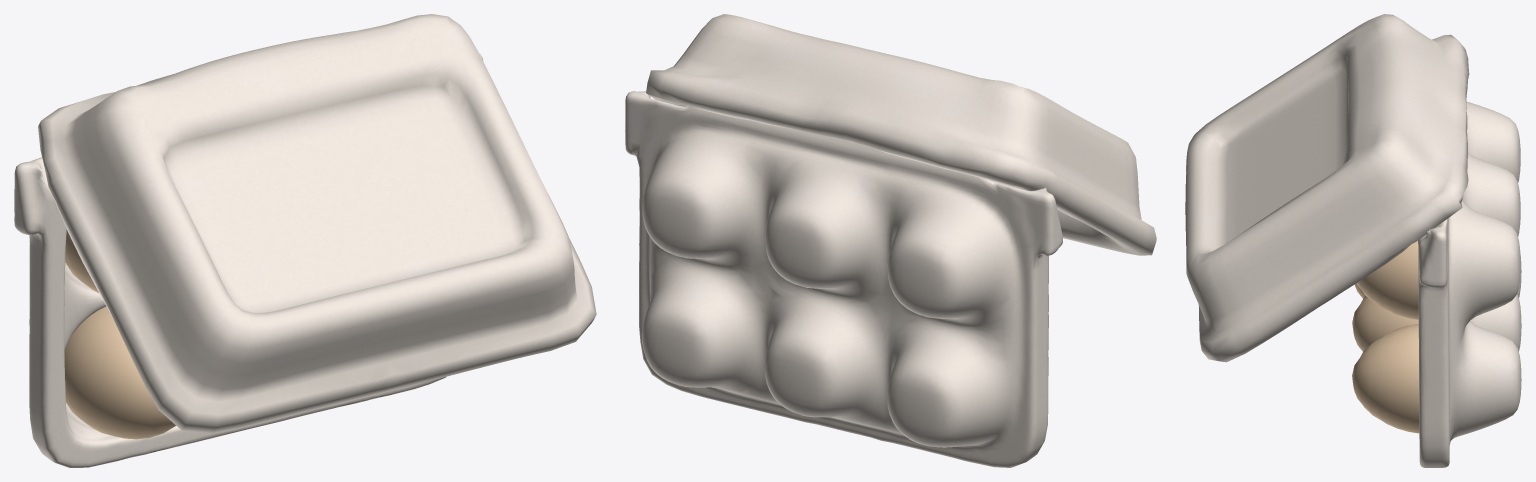
3 renders of one model, left to right at view 1: azimuth 30°, elevation 25°; view 2: azimuth 150°, elevation 25°; view 3: azimuth 270°, elevation 25°, orthographic. The views are drawn at different scales.
Parts seen in each view (by area): view 1: ZBrush_defualt_group001zz, Group007, Group005; view 2: ZBrush_defualt_group001zz; view 3: ZBrush_defualt_group001zz, Group2, Group003, Group006.
Boxes of the visible parts, x1,y1,x2,y2 form: ZBrush_defualt_group001zz: (14, 14, 596, 467); Group007: (64, 306, 175, 439); Group005: (65, 229, 98, 292); ZBrush_defualt_group001zz: (625, 14, 1156, 467); ZBrush_defualt_group001zz: (1185, 14, 1521, 467); Group2: (1352, 324, 1419, 433); Group003: (1356, 241, 1418, 319); Group006: (1352, 296, 1418, 351).
Size of the model in its own units: 25.23 by 20.16 by 19.21.
Materials: 2 (2 with a texture image).
